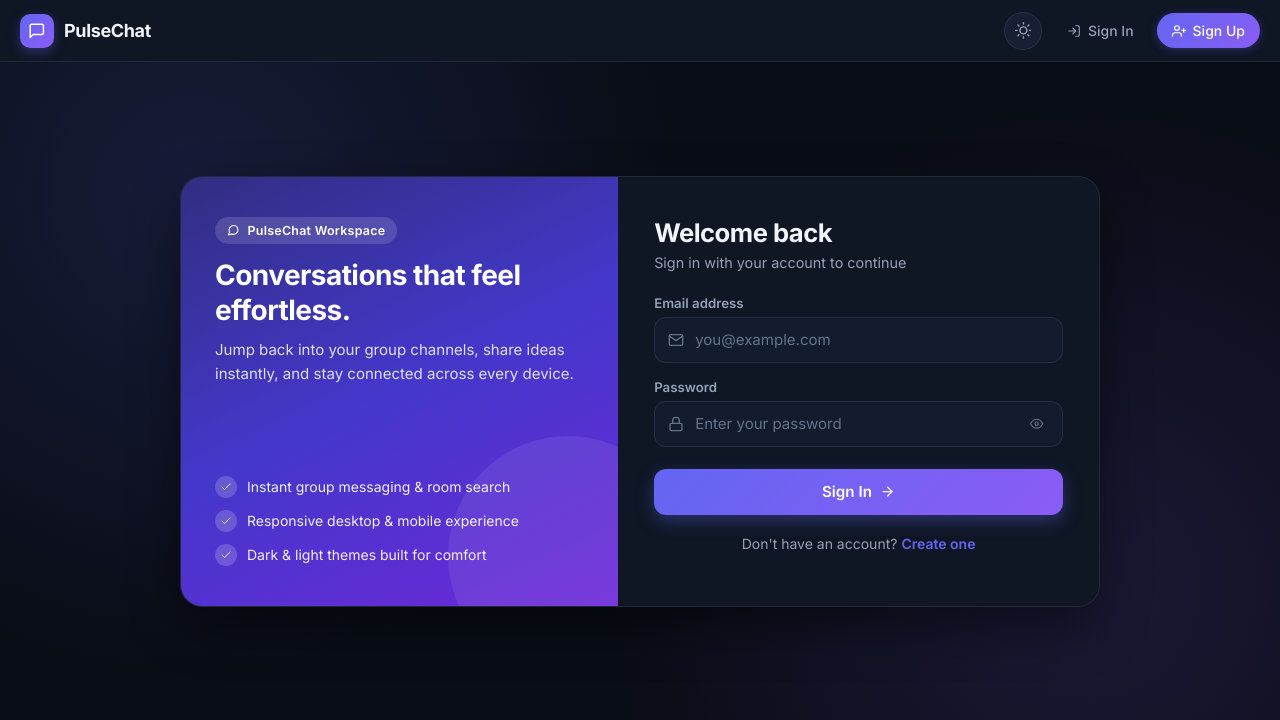
Test: validates empty login submission cleanly
Click the button "Sign In".
click(859, 492)  # box [654,468,1063,514]
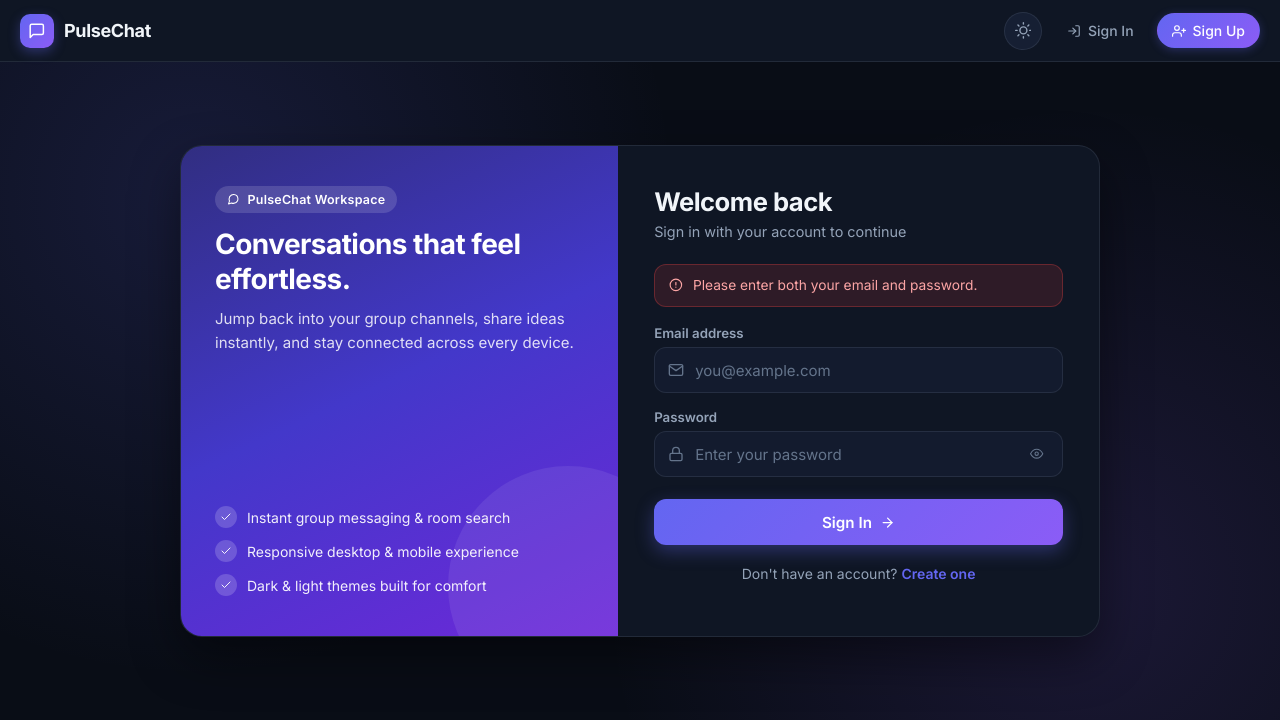
Expected: the text "Please enter both your email and password." is shown, [693,276,977,295]
